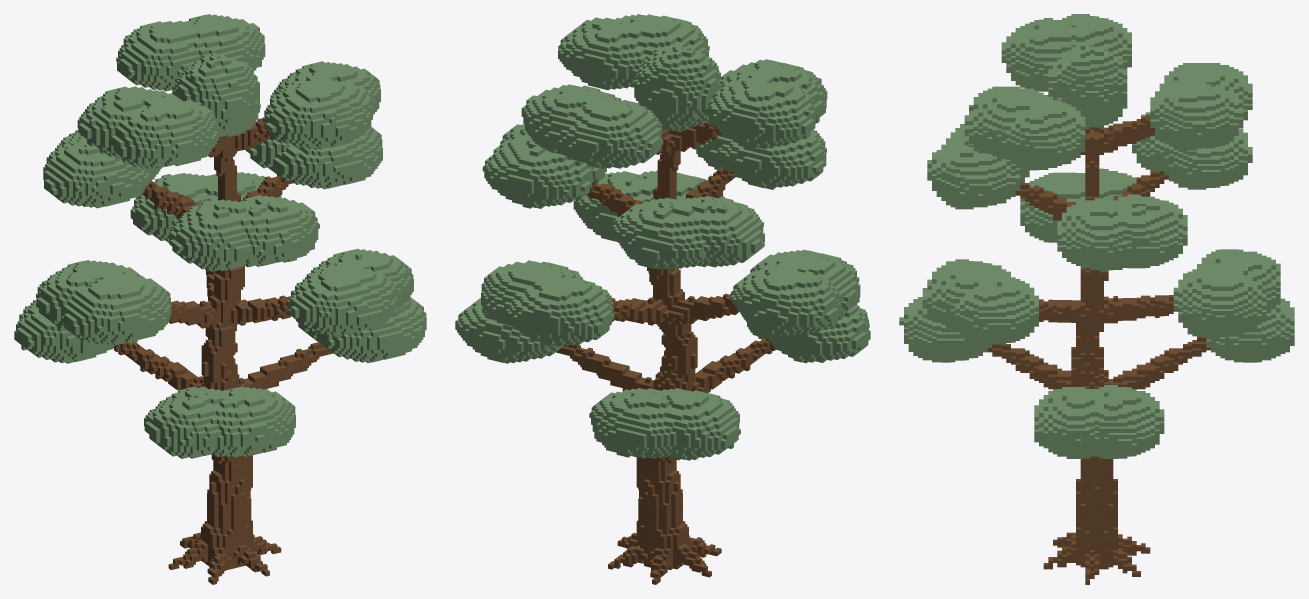
The picture shows the model from 3 angles, left to right: view 1: azimuth 30°, elevation 25°; view 2: azimuth 150°, elevation 25°; view 3: azimuth 270°, elevation 25°; orthographic projection.
Visible parts, largest first — view 1: 既有乔木色阶与高度族; view 2: 既有乔木色阶与高度族; view 3: 既有乔木色阶与高度族.
Boxes of the visible parts, x1,y1,x2,y2 form: 既有乔木色阶与高度族: (14, 14, 426, 584); 既有乔木色阶与高度族: (455, 14, 870, 584); 既有乔木色阶与高度族: (899, 14, 1294, 584).
Size of the model in its own units: 18 by 24 by 17.
Materials: 3 (3 with a texture image).
